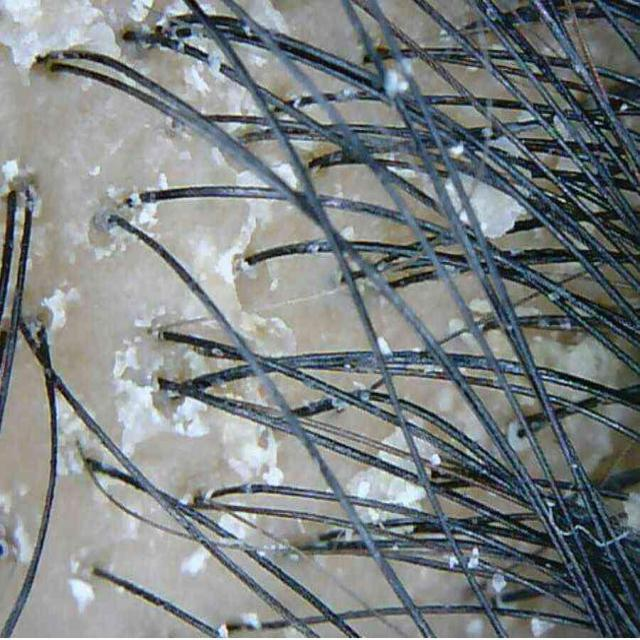d: (460, 173, 526, 239), (115, 379, 170, 456), (222, 419, 284, 485), (346, 467, 426, 508), (215, 213, 256, 285), (545, 336, 609, 382), (56, 395, 90, 477), (562, 414, 610, 472), (376, 428, 415, 470), (240, 0, 288, 33), (174, 398, 210, 438), (538, 369, 584, 399), (218, 282, 244, 330), (41, 289, 68, 330), (445, 178, 469, 222), (68, 578, 95, 614), (12, 516, 32, 564), (112, 346, 139, 379), (227, 85, 258, 113), (180, 547, 210, 575), (219, 514, 248, 540), (181, 549, 210, 575), (272, 163, 299, 190), (184, 66, 210, 94), (384, 69, 409, 98), (506, 421, 528, 452), (625, 492, 640, 533), (239, 312, 264, 336), (128, 0, 153, 22), (489, 137, 519, 154), (416, 438, 439, 460), (359, 507, 390, 523), (138, 202, 158, 226), (531, 618, 554, 638), (236, 171, 264, 186), (1, 159, 19, 181), (165, 0, 189, 16), (465, 618, 484, 638), (469, 298, 492, 314), (491, 571, 506, 595), (94, 244, 116, 260), (240, 613, 261, 629), (0, 490, 12, 514), (211, 147, 226, 166), (378, 336, 392, 356), (209, 50, 221, 73), (468, 547, 480, 569), (449, 318, 465, 333), (15, 201, 25, 224), (158, 171, 169, 190), (129, 192, 142, 208), (449, 144, 464, 157), (341, 227, 355, 240), (134, 318, 151, 328), (216, 623, 228, 637), (449, 554, 459, 569), (224, 123, 239, 132), (89, 166, 101, 177), (179, 151, 191, 161)
